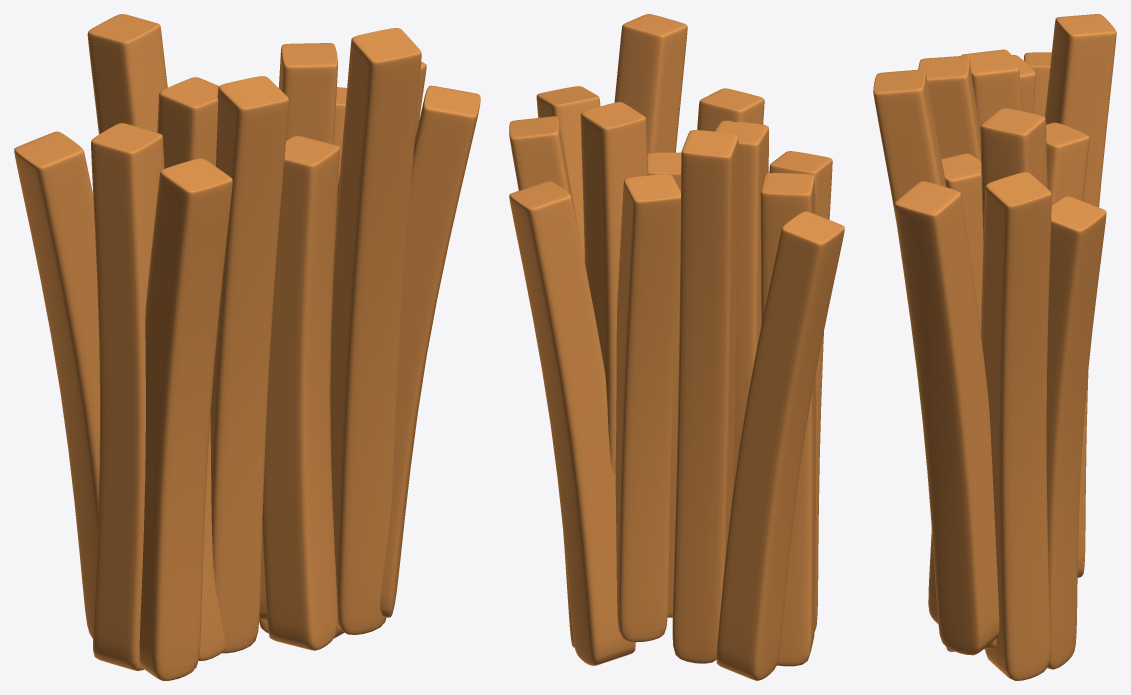
Rendered from papas 1.fbx.
3 renders of one model, left to right at view 1: azimuth 30°, elevation 25°; view 2: azimuth 150°, elevation 25°; view 3: azimuth 270°, elevation 25°, orthographic. The views are drawn at different scales.
Visible parts, largest first — view 1: Cube.006, Cube.005, Cube.008, Cube.010, Cube.003, Cube.001, Cube.012, Cube.002, Cube.004, Cube.007, Cube.013; view 2: Cube.002, Cube.001, Cube.013, Cube.009, Cube.007, Cube.003, Cube.004, Cube.006, Cube.011, Cube.012, Cube.005, Cube.008 (+1 smaller); view 3: Cube.012, Cube.011, Cube.013, Cube.002, Cube.006, Cube.007, Cube.010, Cube.008, Cube.004, Cube.009, Cube.001, Cube.003.
Boxes of the visible parts, x1,y1,x2,y2 form: Cube.006: [330, 28, 421, 634]; Cube.005: [139, 158, 232, 680]; Cube.008: [262, 135, 339, 650]; Cube.010: [210, 76, 288, 653]; Cube.003: [91, 123, 164, 670]; Cube.001: [14, 131, 99, 638]; Cube.012: [380, 85, 480, 617]; Cube.002: [87, 14, 167, 134]; Cube.004: [157, 77, 225, 660]; Cube.007: [278, 43, 337, 144]; Cube.013: [259, 87, 346, 633]; Cube.002: [672, 130, 738, 663]; Cube.001: [716, 211, 844, 680]; Cube.013: [509, 181, 635, 665]; Cube.009: [615, 174, 680, 642]; Cube.007: [580, 102, 648, 474]; Cube.003: [760, 173, 815, 666]; Cube.004: [714, 120, 768, 489]; Cube.006: [614, 14, 687, 153]; Cube.011: [509, 116, 576, 647]; Cube.012: [536, 86, 600, 260]; Cube.005: [769, 151, 832, 632]; Cube.008: [647, 152, 681, 617]; Cube.012: [894, 181, 999, 655]; Cube.011: [981, 172, 1051, 680]; Cube.013: [1046, 196, 1106, 669]; Cube.002: [1045, 14, 1116, 577]; Cube.006: [873, 69, 996, 651]; Cube.007: [980, 108, 1047, 240]; Cube.010: [918, 56, 980, 161]; Cube.008: [928, 153, 983, 623]; Cube.004: [961, 49, 1021, 130]; Cube.009: [1046, 122, 1089, 205]; Cube.001: [1024, 52, 1051, 116]; Cube.003: [1011, 55, 1035, 113].
Size of the model in its own units: 478 by 747 by 278.
